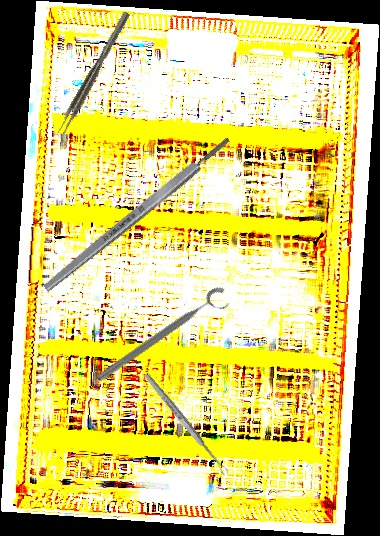Fixation Ring: (93, 283, 235, 393)
Scalpel Handle: (40, 134, 234, 294)
Surgical Spoon: (142, 371, 230, 477)
Tissue Forceps: (54, 11, 134, 138)
